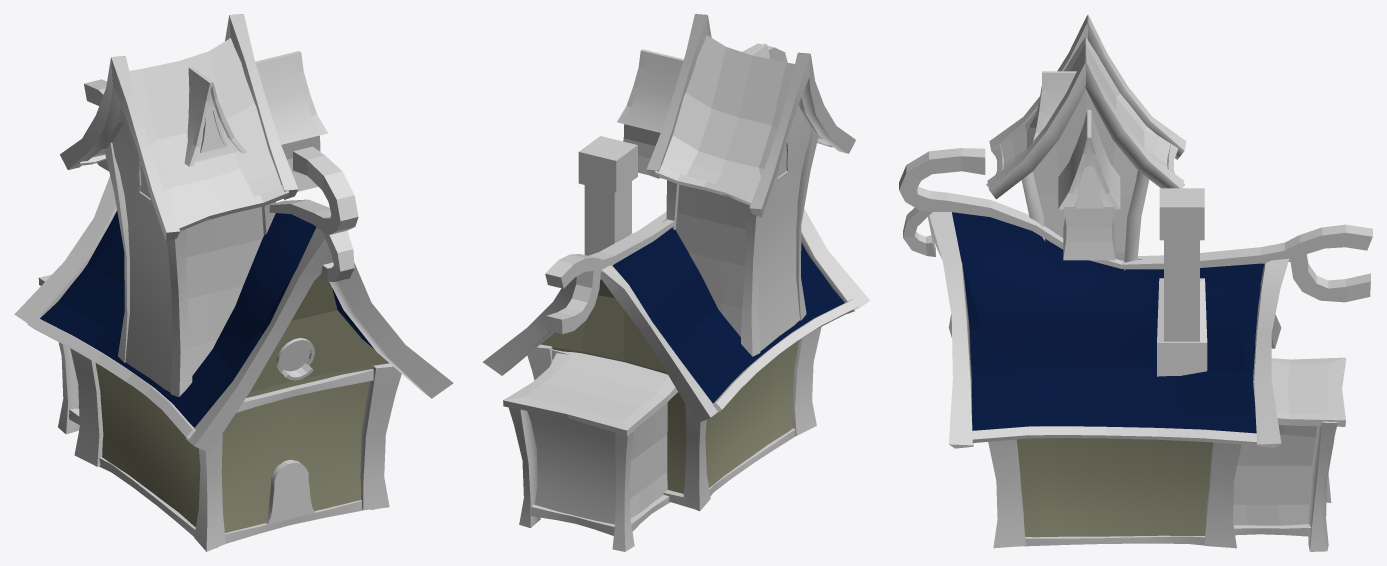
Rendered from Huse_Var2.fbx.
3 renders of one model, left to right at view 1: azimuth 30°, elevation 25°; view 2: azimuth 150°, elevation 25°; view 3: azimuth 270°, elevation 25°, orthographic. The views are drawn at different scales.
Visible parts, largest first — view 1: Box583, Object304, Box560, Object327, Box588, Object328, Object318, Object329, Object307, Object303, Object312, Box585 (+13 smaller); view 2: Object304, Box583, Object277, Box563, Box560, Box588, Object329, Object306, Object308, Object311, Object330, Object317 (+12 smaller); view 3: Box583, Box560, Object277, Box563, Object304, Box588, Object328, Object330, Object331, Object318, Object312, Object316 (+10 smaller).
Part boxes in pixels (x1,y1,x2,y2): Box583: (40, 210, 389, 532); Object304: (92, 38, 281, 392); Box560: (84, 79, 358, 281); Object327: (186, 227, 332, 452); Box588: (255, 51, 327, 191); Object328: (329, 258, 453, 398); Object318: (360, 363, 401, 510); Object329: (14, 175, 116, 323); Object307: (111, 56, 180, 241); Object303: (167, 229, 192, 396); Object312: (229, 14, 298, 199); Box585: (184, 67, 246, 166); Object304: (662, 35, 823, 351); Box583: (540, 219, 844, 493); Object277: (503, 351, 677, 524); Box563: (578, 136, 637, 255); Box560: (545, 43, 787, 334); Box588: (617, 49, 683, 178); Object329: (600, 265, 717, 423); Object306: (749, 53, 810, 217); Object308: (741, 204, 763, 356); Object311: (646, 14, 707, 178); Object330: (483, 277, 601, 375); Object317: (791, 327, 821, 435); Box583: (952, 212, 1264, 537); Box560: (899, 148, 1372, 302); Object277: (1233, 357, 1345, 525); Box563: (1157, 188, 1207, 376); Object304: (1000, 37, 1170, 260); Box588: (1058, 110, 1120, 260); Object328: (928, 212, 973, 448); Object330: (1253, 258, 1289, 447); Object331: (972, 426, 1261, 445); Object318: (988, 439, 1025, 548); Object312: (987, 54, 1086, 199); Object316: (1204, 442, 1241, 548).
Bounding box in the file's own units: 467 × 835 × 778.
